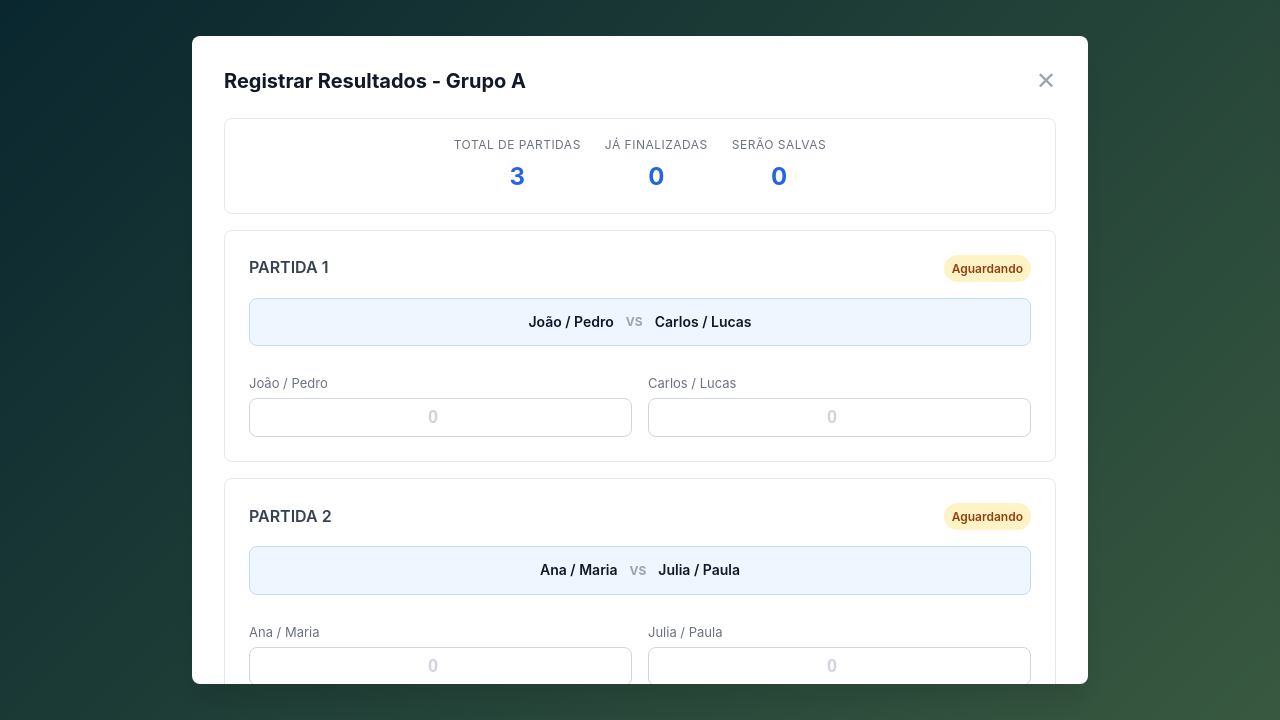
it: ModalLancamentoResultadosLoteDuplaFixa › validação de placares › deve mostrar erro quando apenas um placar é preenchido
The image size is (1280, 720).
Type "6" into the 1st number field with placeholder "0" at (440, 418), box [249,398,632,437]
(page scrolled)
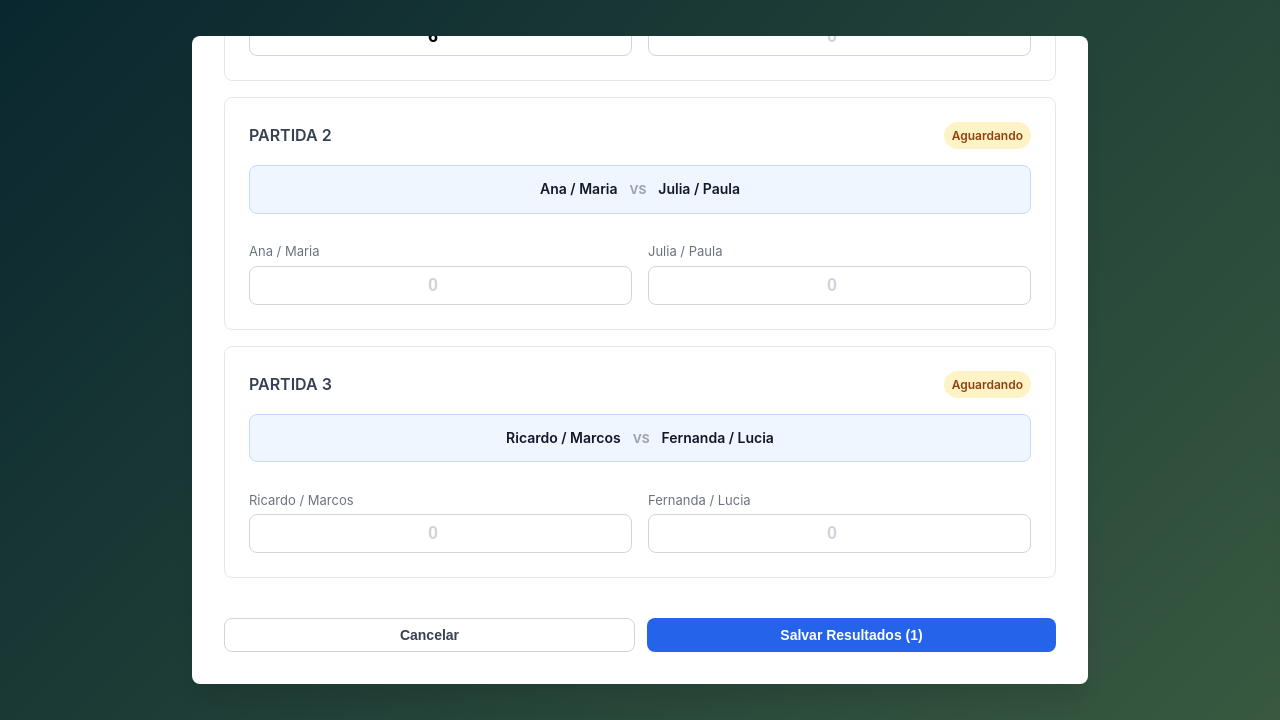
Click the button "Salvar Resultados (1)" at (852, 635), box [647,618,1056,652]
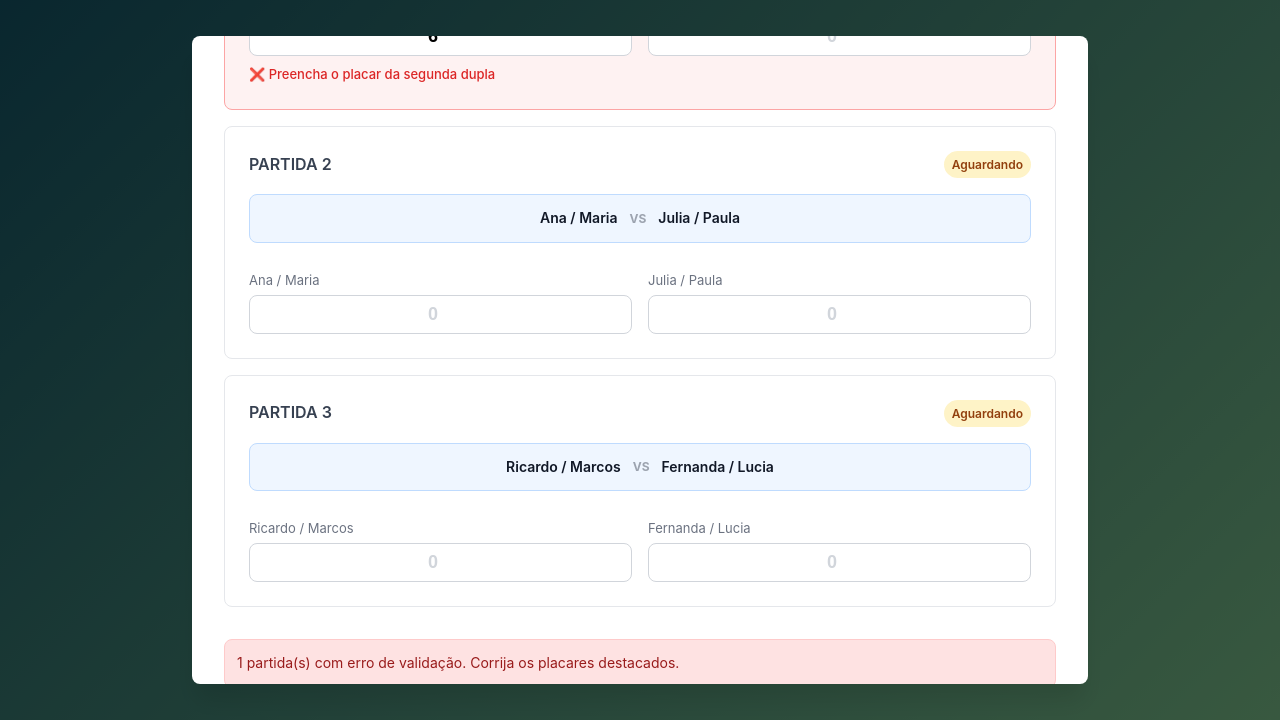
expect the text "❌ Preencha o placar da segunda dupla" is shown: met, box [249,66,495,82]
